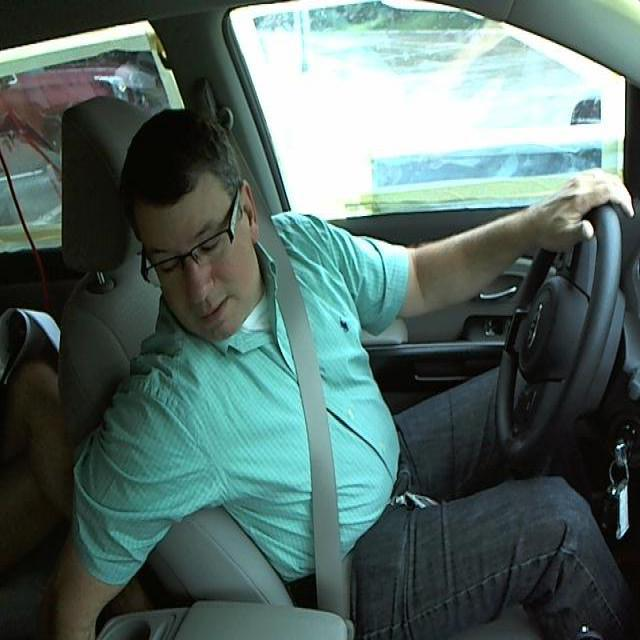seatbelt: (260, 268, 366, 615)
